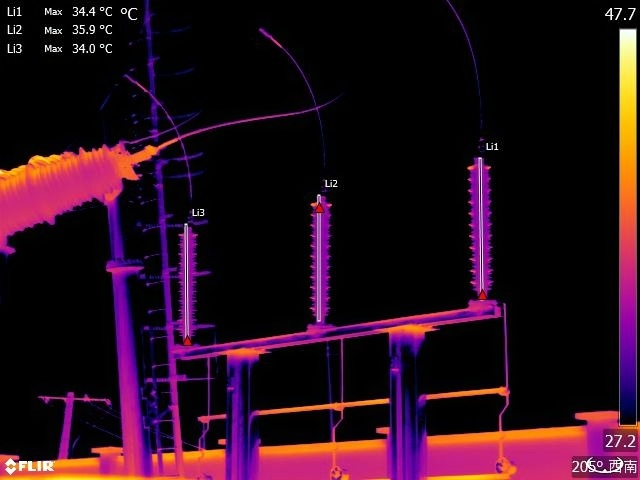tube: (1, 133, 156, 262), (470, 149, 501, 302), (307, 193, 341, 327), (174, 218, 203, 347)
